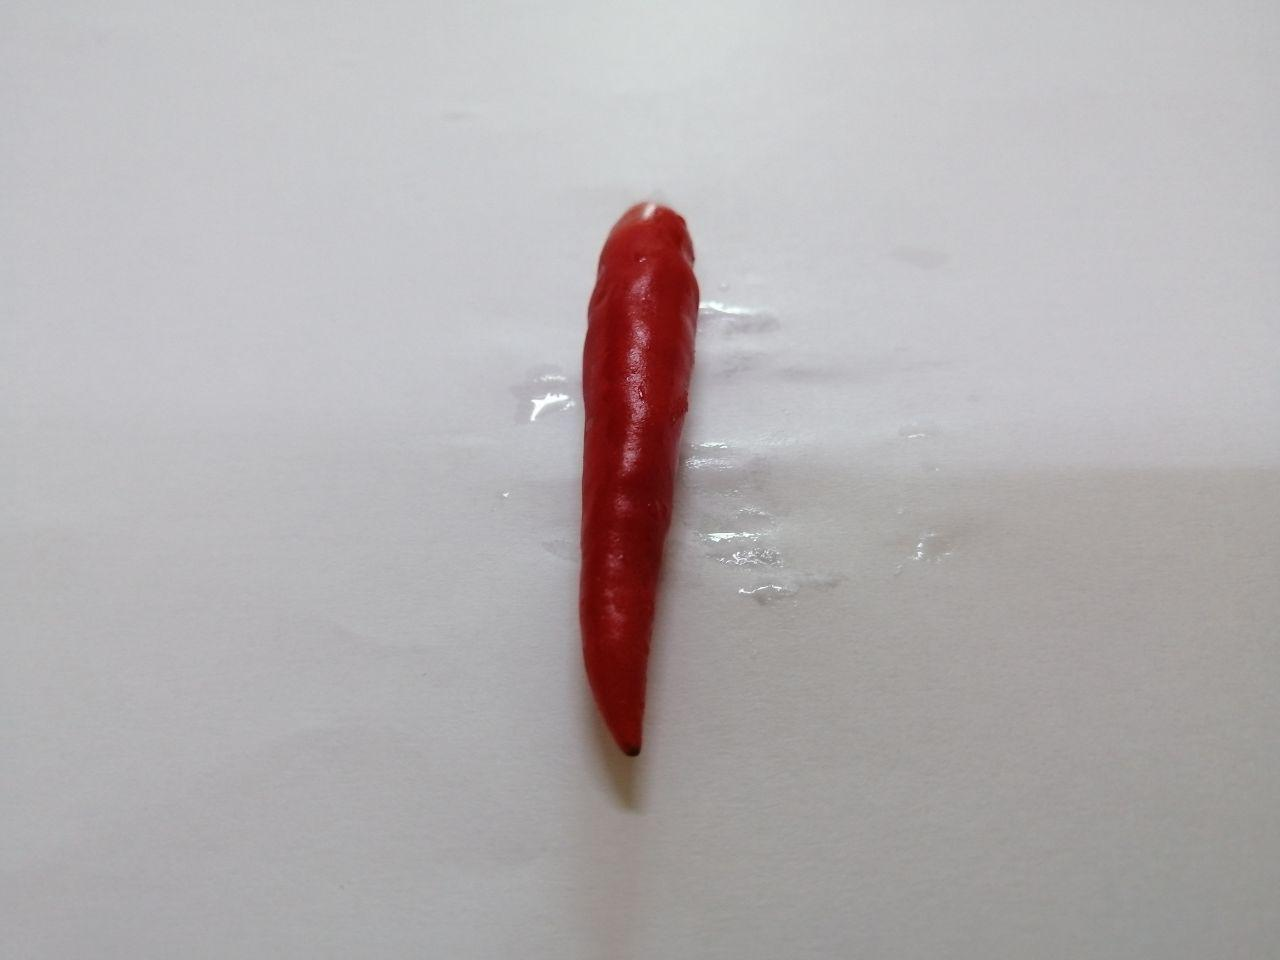lada merah: (544, 187, 710, 769)
